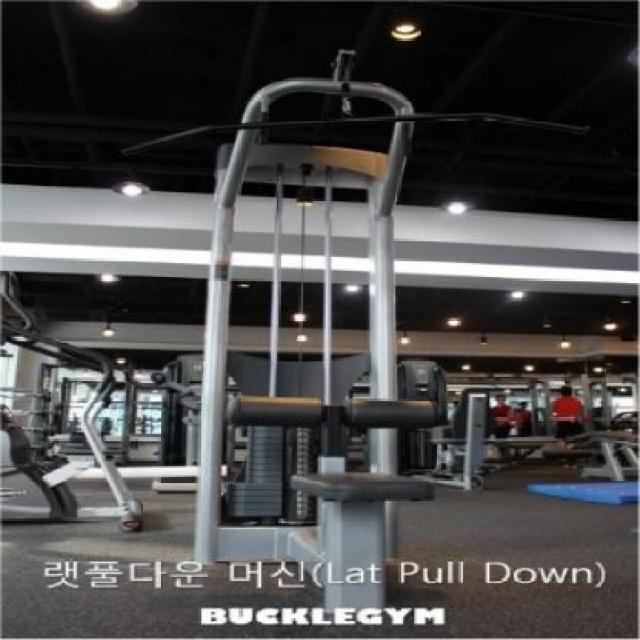Lat Pull Down: (54, 26, 634, 640)
